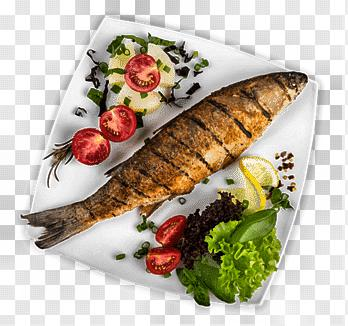fish: (30, 59, 324, 261)
